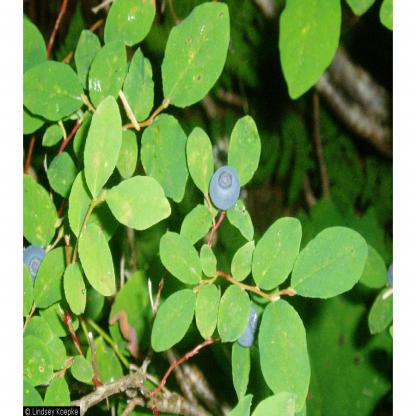Blueberry leaf: (163, 3, 232, 111), (285, 226, 378, 302), (278, 3, 350, 100), (261, 297, 313, 404), (246, 209, 301, 302), (142, 114, 196, 205), (76, 84, 116, 202), (102, 173, 173, 238), (24, 60, 81, 133), (76, 222, 121, 302), (36, 238, 75, 327), (150, 284, 200, 353), (21, 176, 62, 245), (186, 114, 216, 203), (158, 227, 199, 291), (225, 112, 257, 192), (220, 286, 257, 346), (194, 277, 220, 347), (62, 264, 92, 313), (202, 242, 222, 281)
